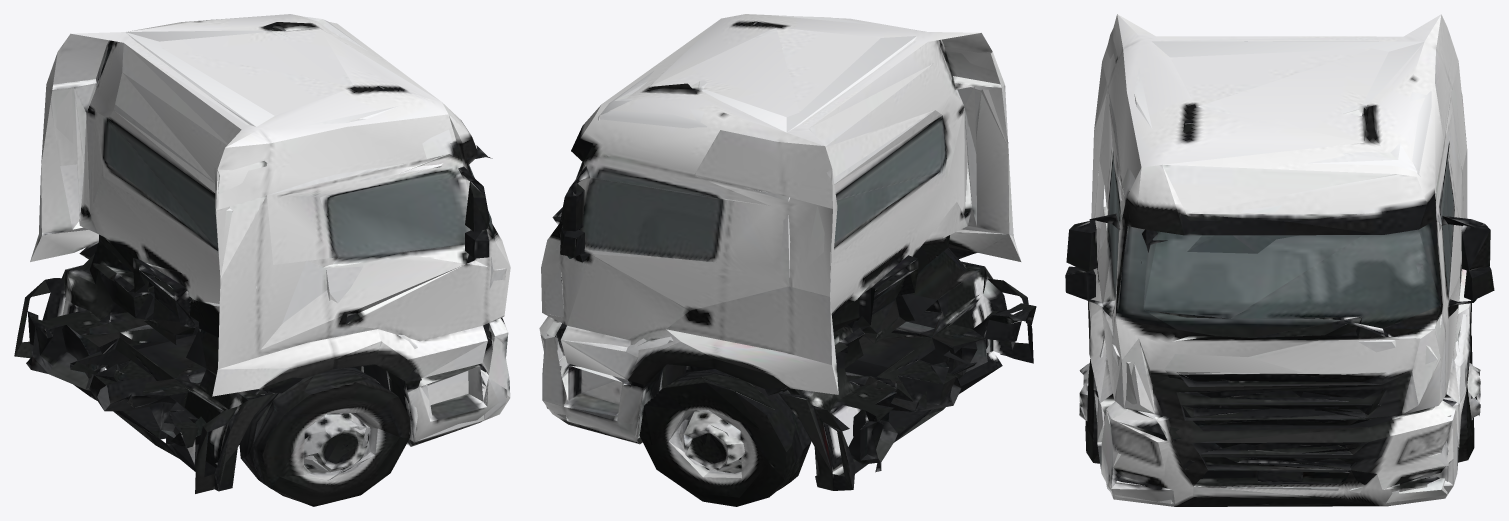
3 views of the same model, side by side, from view 1: azimuth 30°, elevation 25°; view 2: azimuth 150°, elevation 25°; view 3: azimuth 270°, elevation 25° (orthographic). The views are drawn at different scales.
Parts seen in each view (by area): view 1: truck-cab; view 2: truck-cab; view 3: truck-cab.
Boxes of the visible parts, bbox=[...] form: truck-cab: bbox=[14, 14, 510, 506]; truck-cab: bbox=[539, 14, 1036, 506]; truck-cab: bbox=[1065, 14, 1494, 506].
Bounding box in the file's own units: 1 × 1 × 1.
Materials: 1 (1 with a texture image).
